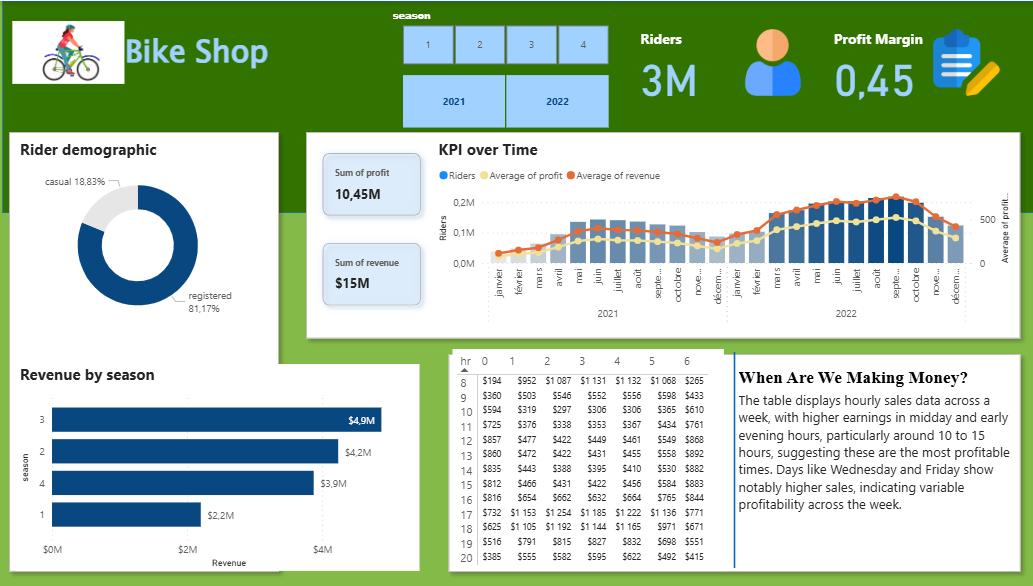

The dashboard page shown, as its layout file describes it:
{"tool":"powerbi","page":{"name":"Executive Overview","canvas":[1280,720],"ordinal":0},"visuals":[{"type":"shape","box":[9.6,0,1269.8,260.9],"z":0},{"type":"cardVisual","fields":{"Data":["Sum(Requête1.riders)"]},"box":[0,143.9,366.4,575.4],"z":1000},{"type":"cardVisual","fields":{"Data":["Sum(Requête1.riders)"]},"box":[365.5,144,913.9,288],"z":2000},{"type":"cardVisual","fields":{"Data":["Sum(Requête1.riders)"]},"box":[540.9,417.2,738.5,302.8],"z":3000},{"type":"cardVisual","fields":{"Data":["Sum(Requête1.riders)"]},"box":[0,0,184.6,131.1],"z":4000},{"type":"pivotTable","fields":{"Values":["Avg(Requête1.revenue)"],"Columns":["Requête1.weekday"],"Rows":["Requête1.hr"]},"box":[563.1,428.3,334.2,273.2],"z":5000},{"type":"textbox","box":[910.2,444.9,332.3,62.8],"z":6000},{"type":"textbox","box":[910.2,474.5,356.3,166.2],"z":7000},{"type":"lineClusteredColumnComboChart","title":"KPI over Time","fields":{"Category":["Requête1.dteday.Variation.Hiérarchie de dates.Année","Requête1.dteday.Variation.Hiérarchie de dates.Mois","Requête1.dteday.Variation.Hiérarchie de dates.Jour"],"Y":["Sum(Requête1.riders)"],"Y2":["Avg(Requête1.profit)","Avg(Requête1.revenue)"]},"box":[540.9,169.8,712.6,236.3],"z":8000},{"type":"clusteredBarChart","title":"Revenue by season","fields":{"Category":["Requête1.season"],"Y":["Sum(Requête1.revenue)"]},"box":[25.8,446.8,496.6,254.8],"z":9000},{"type":"donutChart","title":"Rider demographic","fields":{"Category":["Requête1.rider_type"],"Y":["Sum(Requête1.riders)"]},"box":[25.8,169.8,299.1,236.3],"z":10000},{"type":"shape","box":[886.2,432,48,265.8],"z":11000},{"type":"cardVisual","title":"KPI over Time","fields":{"Data":["Sum(Requête1.profit)","Sum(Requête1.revenue)"]},"box":[385.8,169.8,155.1,223.4],"z":12000},{"type":"cardVisual","fields":{"Data":["Sum(Requête1.riders)","Requête1.Profit Margin"]},"box":[777.2,0,476.3,162.5],"z":13000},{"type":"textbox","box":[155.1,29.5,206.8,72],"z":16000},{"type":"slicer","fields":{"Values":["Requête1.Years"]},"box":[476.3,70.2,302.8,92.3],"z":17000},{"type":"slicer","fields":{"Values":["Requête1.season"]},"box":[476.3,3.7,302.8,81.2],"z":18000}]}

Visuals, with their boxes in screenshot pixels (x1, y1, x2, y2), scaled from the page's 1280x720 canvas onto the 1033x586 screenshot:
shape: bbox(8, 0, 1032, 212)
cardVisual - Sum(Requête1.riders): bbox(0, 117, 296, 585)
cardVisual - Sum(Requête1.riders): bbox(295, 117, 1032, 352)
cardVisual - Sum(Requête1.riders): bbox(437, 340, 1032, 585)
cardVisual - Sum(Requête1.riders): bbox(0, 0, 149, 107)
pivotTable - Avg(Requête1.revenue) x Requête1.weekday: bbox(454, 349, 724, 571)
textbox: bbox(735, 362, 1003, 413)
textbox: bbox(735, 386, 1022, 521)
"KPI over Time" lineClusteredColumnComboChart: bbox(437, 138, 1012, 331)
"Revenue by season" clusteredBarChart: bbox(21, 364, 422, 571)
"Rider demographic" donutChart: bbox(21, 138, 262, 331)
shape: bbox(715, 352, 754, 568)
"KPI over Time" cardVisual: bbox(311, 138, 437, 320)
cardVisual - Sum(Requête1.riders) x Requête1.Profit Margin: bbox(627, 0, 1012, 132)
textbox: bbox(125, 24, 292, 83)
slicer - Requête1.Years: bbox(384, 57, 629, 132)
slicer - Requête1.season: bbox(384, 3, 629, 69)
